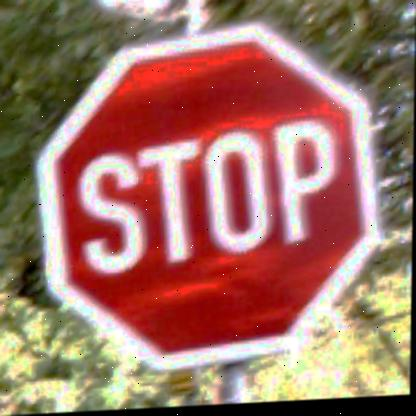Stop Sign: (31, 21, 381, 374)
